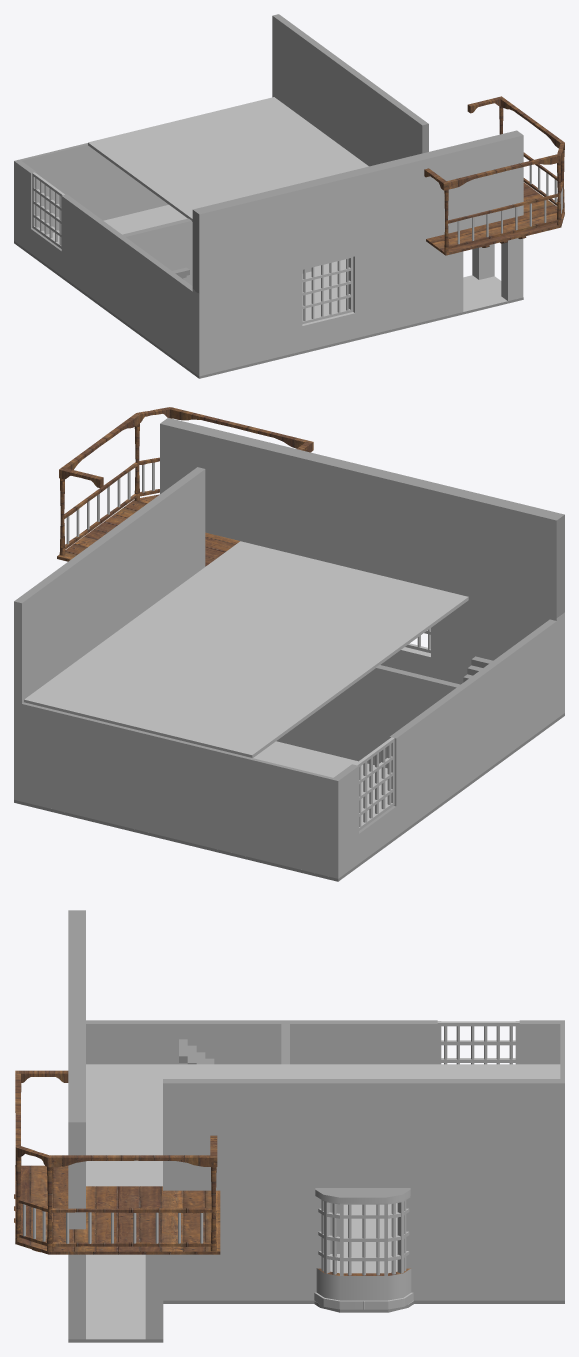
The model's file is Old_Trinidad_House.fbx.
3 views of the same model, one above another, from view 1: azimuth 30°, elevation 25°; view 2: azimuth 150°, elevation 25°; view 3: azimuth 270°, elevation 25° (orthographic). The views are drawn at different scales.
Visible parts, largest first — view 1: pCube46, pCube157, pCube158, pCube105, pCube89, pCube45, pCube104, pCube87, pCube108, pCube17, Fenetre, pCube88 (+9 smaller); view 2: pCube157, pCube46, pCube104, pCube158, pCube105, pCube108, pCube89, pCube87, Fenetre, pCube110, pCube109, pCube34 (+5 smaller); view 3: pCube158, pCube86, pCube157, pCube105, pCube47, pCube87, pCube46, pCube156, pCube48, pCube15, pCube1, pCube17 (+9 smaller).
Boxes of the visible parts, box(x1,y1,x2,y2) form: pCube46: box(192, 130, 523, 294); pCube157: box(88, 97, 368, 221); pCube158: box(272, 14, 428, 166); pCube105: box(61, 194, 192, 371); pCube89: box(192, 269, 302, 376); pCube45: box(348, 239, 457, 338); pCube104: box(14, 143, 168, 241); pCube87: box(14, 205, 463, 378); pCube108: box(122, 218, 307, 285); pCube17: box(426, 215, 543, 255); Fenetre: box(32, 172, 64, 248); pCube88: box(302, 309, 355, 351); pCube157: box(24, 541, 468, 757); pCube46: box(160, 418, 564, 618); pCube104: box(21, 702, 340, 878); pCube158: box(14, 467, 205, 703); pCube105: box(389, 619, 556, 835); pCube108: box(276, 665, 460, 768); pCube89: box(431, 597, 564, 718); pCube87: box(14, 713, 564, 881); Fenetre: box(354, 737, 394, 830); pCube110: box(334, 764, 358, 876); pCube109: box(359, 806, 396, 863); pCube34: box(169, 407, 307, 448); pCube158: box(163, 1079, 564, 1193); pCube86: box(410, 1193, 564, 1300); pCube157: box(86, 1064, 560, 1186); pCube105: box(86, 1020, 437, 1064); pCube47: box(163, 1193, 317, 1300); pCube87: box(86, 1203, 564, 1303); pCube46: box(68, 910, 85, 1229); pCube156: box(86, 1186, 220, 1229); pCube48: box(314, 1268, 413, 1309); pCube15: box(68, 1229, 220, 1254); pCube1: box(68, 1300, 163, 1342); pCube17: box(15, 1165, 68, 1229).
Size of the model in its own units: 13.69 by 6.01 by 13.6.
